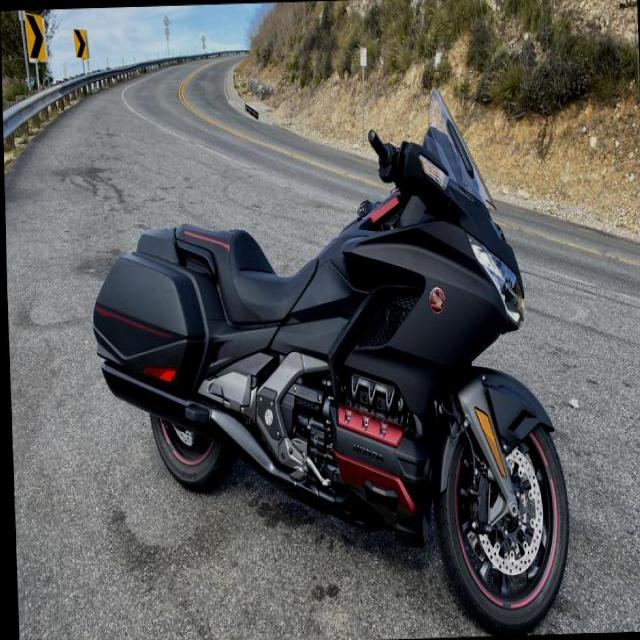Gold Wing: (82, 78, 573, 639)
